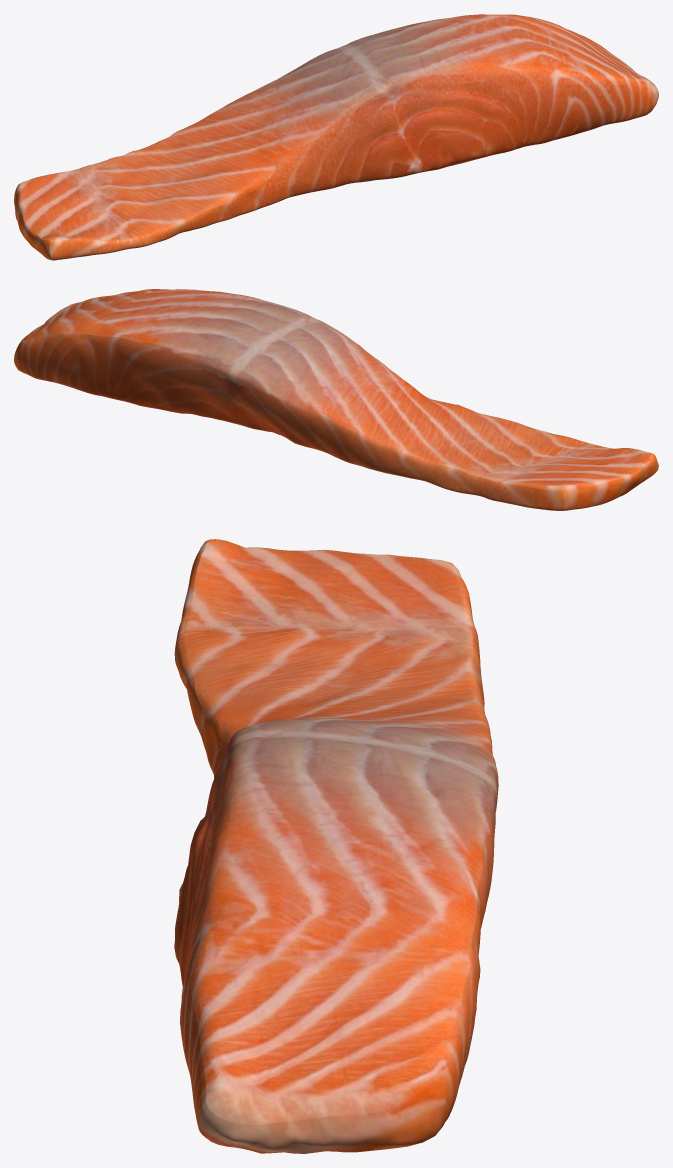
The model's file is salmon-steak-17.glb.
The picture shows the model from 3 angles, top to bottom: view 1: azimuth 30°, elevation 25°; view 2: azimuth 150°, elevation 25°; view 3: azimuth 270°, elevation 25°; orthographic projection. The views are drawn at different scales.
Visible parts, largest first — view 1: Salmon-Steak-2; view 2: Salmon-Steak-2; view 3: Salmon-Steak-2.
Part boxes in pixels (bbox=[...]): Salmon-Steak-2: bbox=[14, 14, 658, 260]; Salmon-Steak-2: bbox=[14, 289, 658, 510]; Salmon-Steak-2: bbox=[174, 539, 498, 1153].
Size of the model in its own units: 25.51 by 3.9 by 5.98.
Materials: 1 (1 with a texture image).
